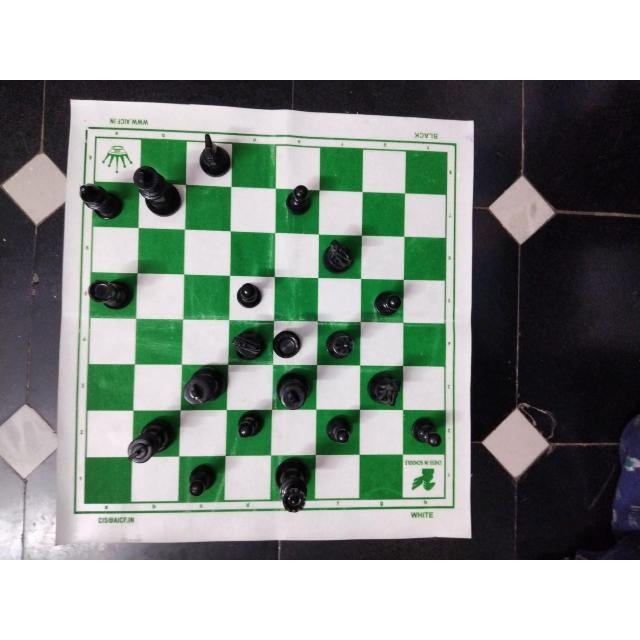black-bishop: (76, 181, 127, 222), (321, 327, 357, 360)
black-king: (132, 163, 184, 219), (120, 415, 175, 465), (181, 364, 227, 411), (274, 366, 318, 410)
black-knight: (196, 130, 234, 179), (228, 325, 270, 363), (320, 236, 359, 276), (365, 367, 403, 408)
black-pawn: (184, 460, 220, 499), (232, 409, 268, 442), (410, 414, 442, 450), (323, 414, 355, 448), (283, 184, 313, 218), (370, 287, 402, 318), (234, 280, 265, 310)
black-queen: (271, 458, 312, 514)
black-rook: (84, 277, 135, 313), (272, 329, 304, 361)
